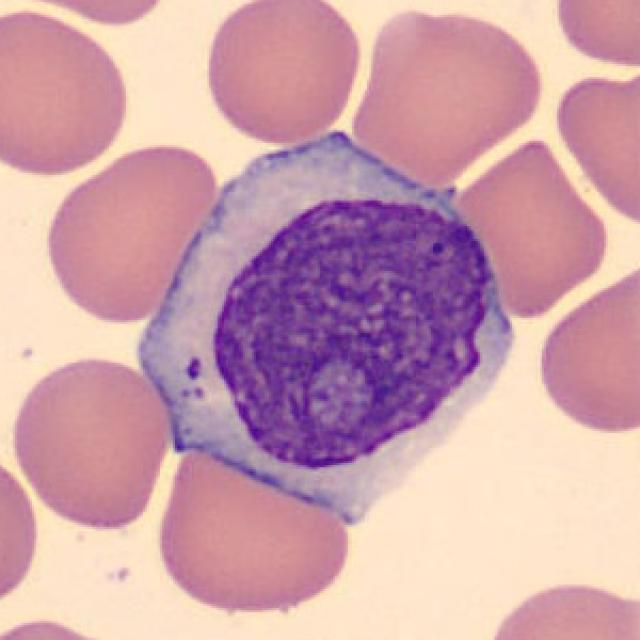White Blood Cell: (141, 132, 510, 521)
